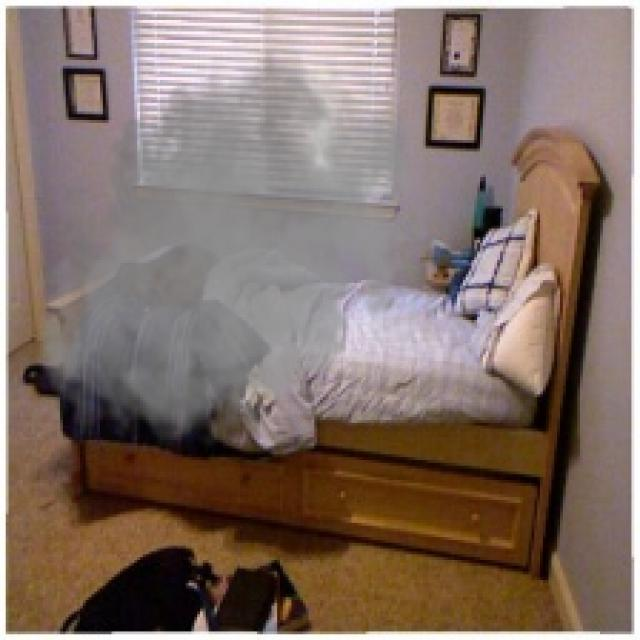smoke: (31, 29, 426, 454)
